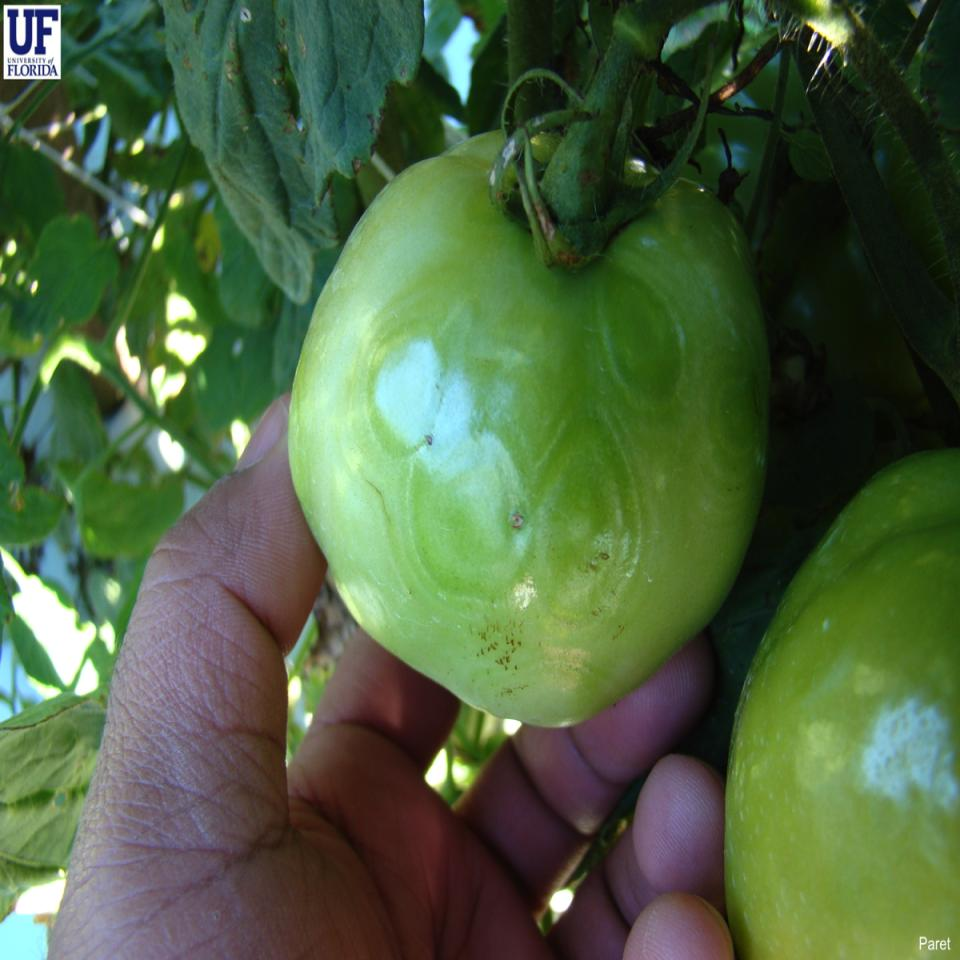Spotted wilt Virus: (289, 134, 770, 729), (722, 450, 960, 960)
